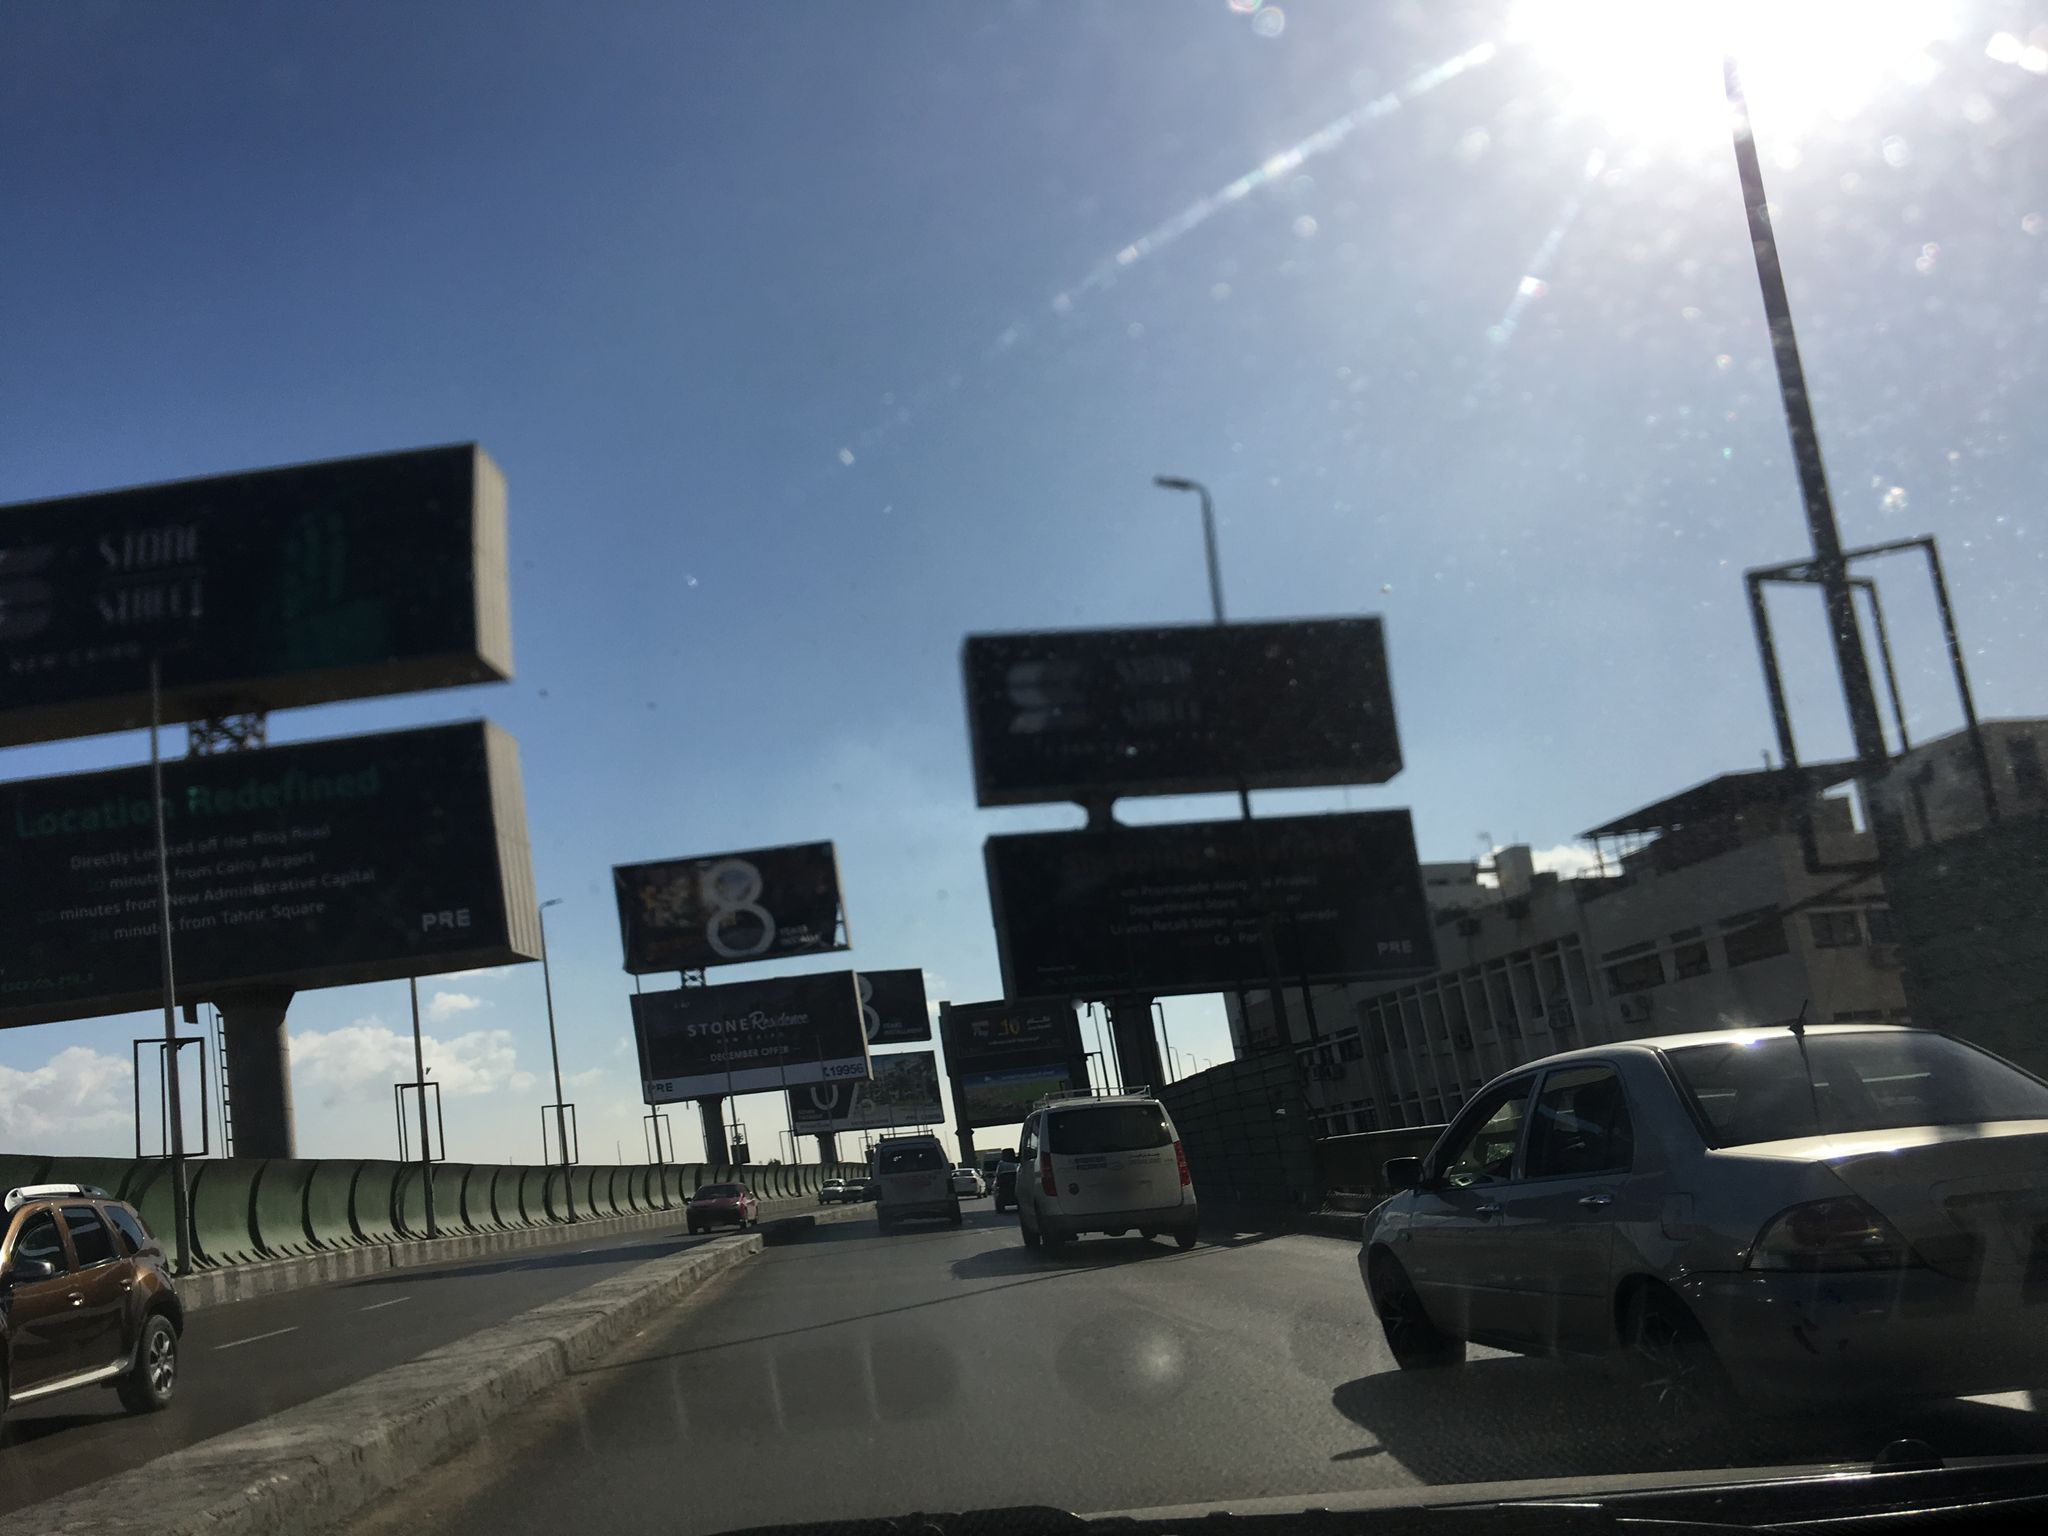car: (1355, 1025, 2046, 1454), (0, 1179, 184, 1431), (998, 1084, 1201, 1254), (871, 1128, 961, 1226), (684, 1183, 760, 1233), (990, 1158, 1019, 1212), (950, 1167, 987, 1200), (980, 1150, 1000, 1196), (842, 1176, 871, 1204), (818, 1178, 845, 1204)
